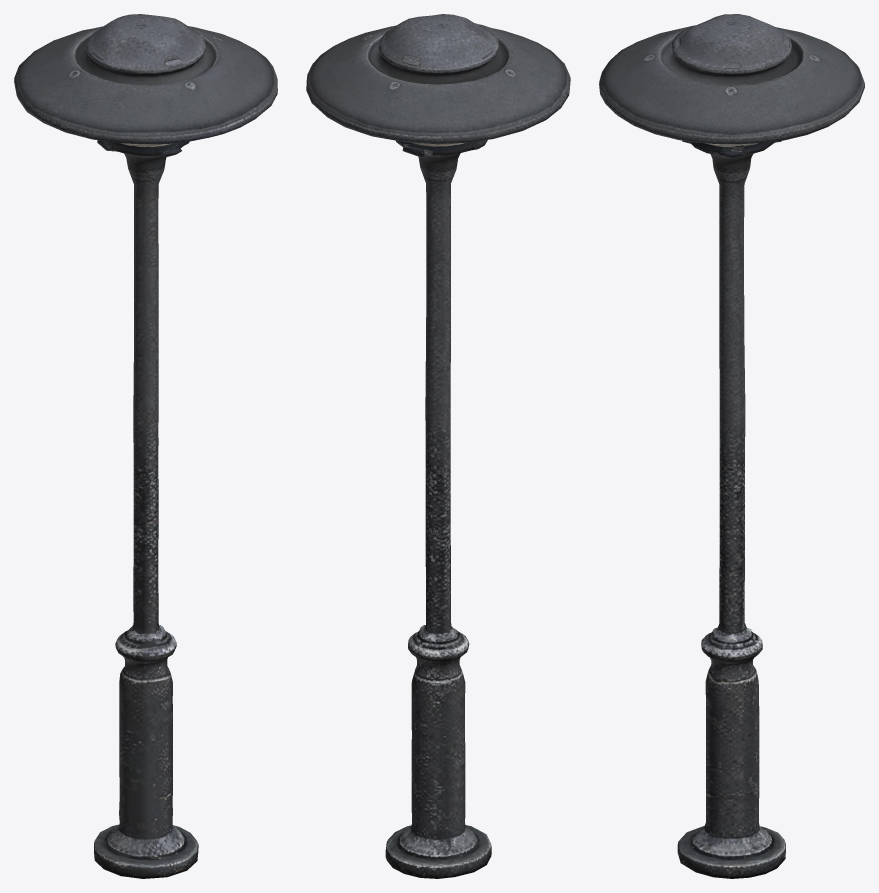
The model's file is tripo_convert_18d8ad8c-b56a-410e-b862-7983b4b45db3.fbx.
The picture shows the model from 3 angles, left to right: view 1: azimuth 30°, elevation 25°; view 2: azimuth 150°, elevation 25°; view 3: azimuth 270°, elevation 25°; orthographic projection.
Visible parts, largest first — view 1: tripo_node_18d8ad8c; view 2: tripo_node_18d8ad8c; view 3: tripo_node_18d8ad8c.
Boxes of the visible parts, x1,y1,x2,y2 form: tripo_node_18d8ad8c: (14, 14, 277, 878); tripo_node_18d8ad8c: (306, 14, 570, 878); tripo_node_18d8ad8c: (599, 14, 864, 878).
Bounding box in the file's own units: 0.2825 × 0.9797 × 0.2838.
Materials: 1 (1 with a texture image).
